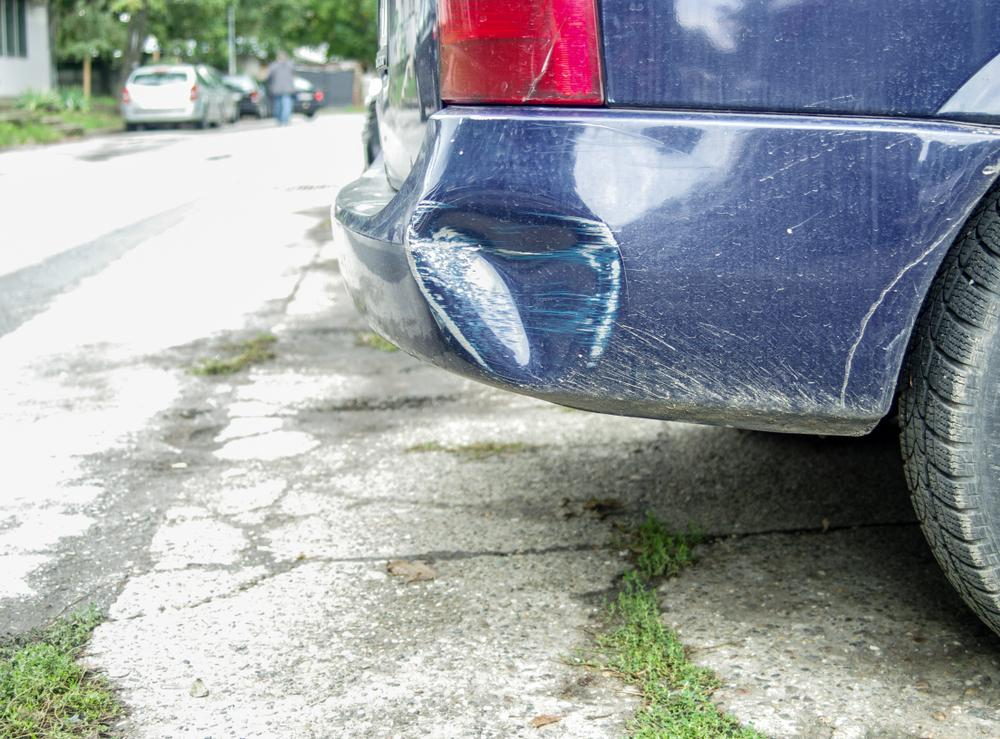dent: (409, 179, 617, 379)
